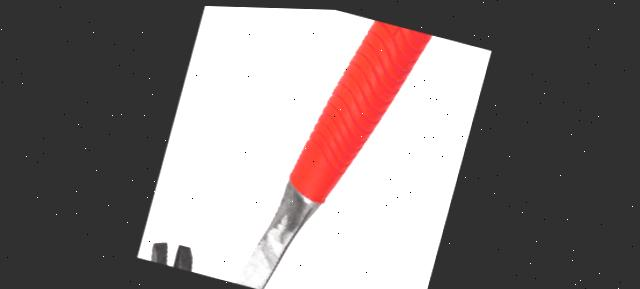hammer: (146, 4, 489, 289)
